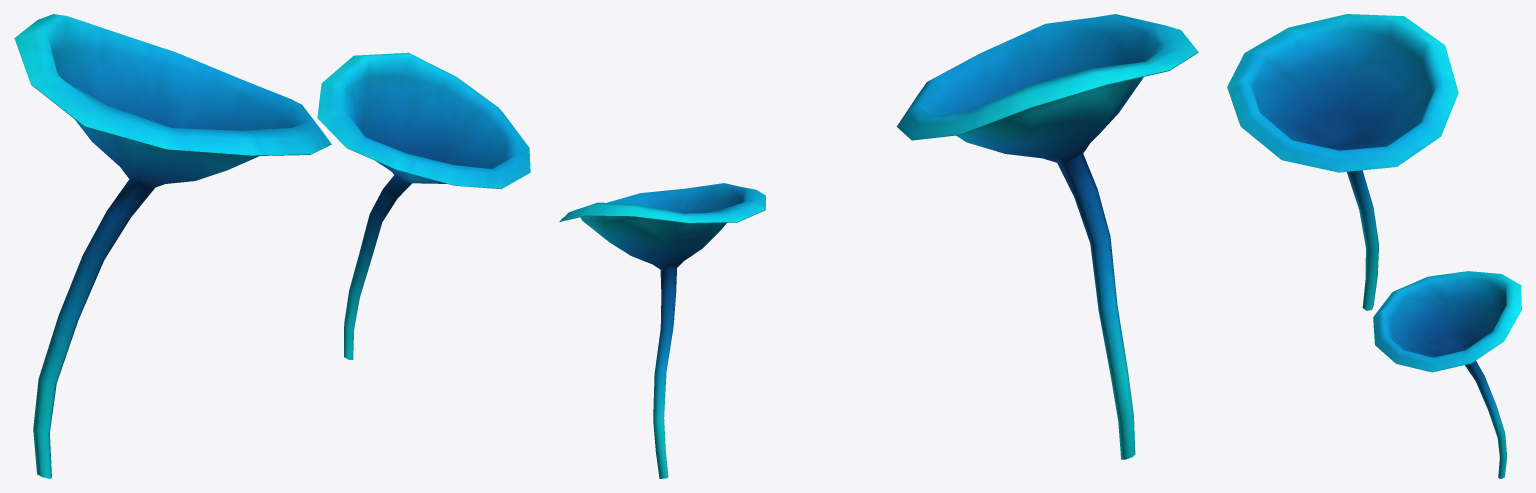
The model's file is Cartoon Seaweed_13-2-35.fbx.
The picture shows the model from 3 angles, left to right: view 1: azimuth 30°, elevation 25°; view 2: azimuth 150°, elevation 25°; view 3: azimuth 270°, elevation 25°; orthographic projection. The views are drawn at different scales.
Parts seen in each view (by area): view 1: Cartoon Seaweed_13.2.35; view 2: Cartoon Seaweed_13.2.35; view 3: Cartoon Seaweed_13.2.35.
Part boxes in pixels (bbox=[...]): Cartoon Seaweed_13.2.35: bbox=[14, 14, 530, 478]; Cartoon Seaweed_13.2.35: bbox=[559, 14, 1198, 478]; Cartoon Seaweed_13.2.35: bbox=[1227, 14, 1521, 478].
Bounding box in the file's own units: 14.37 × 11.64 × 9.46.
Materials: 1 (1 with a texture image).
